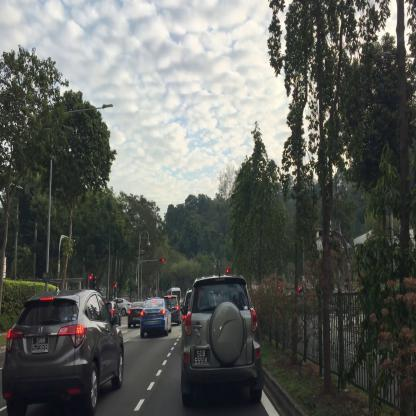red_traffic_light: (89, 274, 91, 288), (158, 258, 164, 262)
